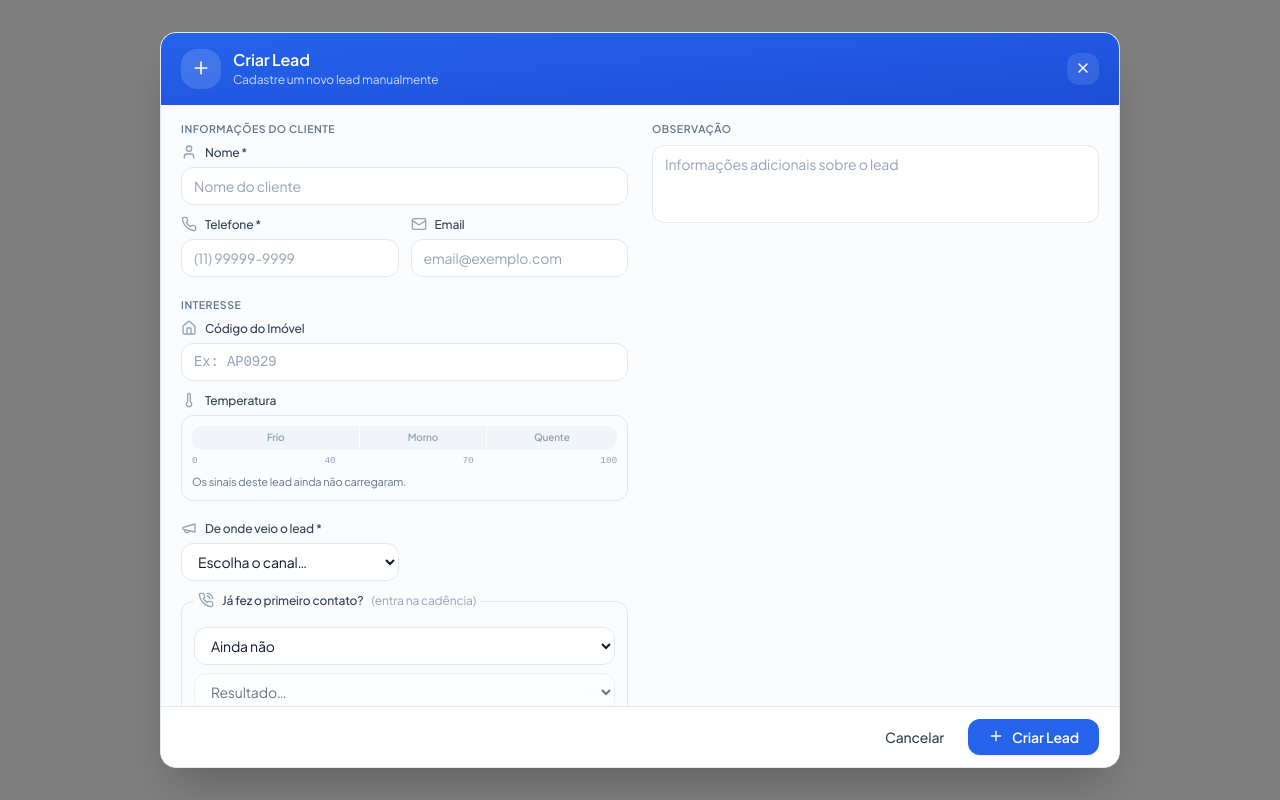
Test: Duplicidade de telefone ao criar lead › corretor vê o detalhe quando a ficha já é dele
This screenshot has width=1280, height=800.
Type "Maria" into the field with placeholder "Nome do cliente".
click(404, 186); type("Maria")  # box [181,167,628,205]
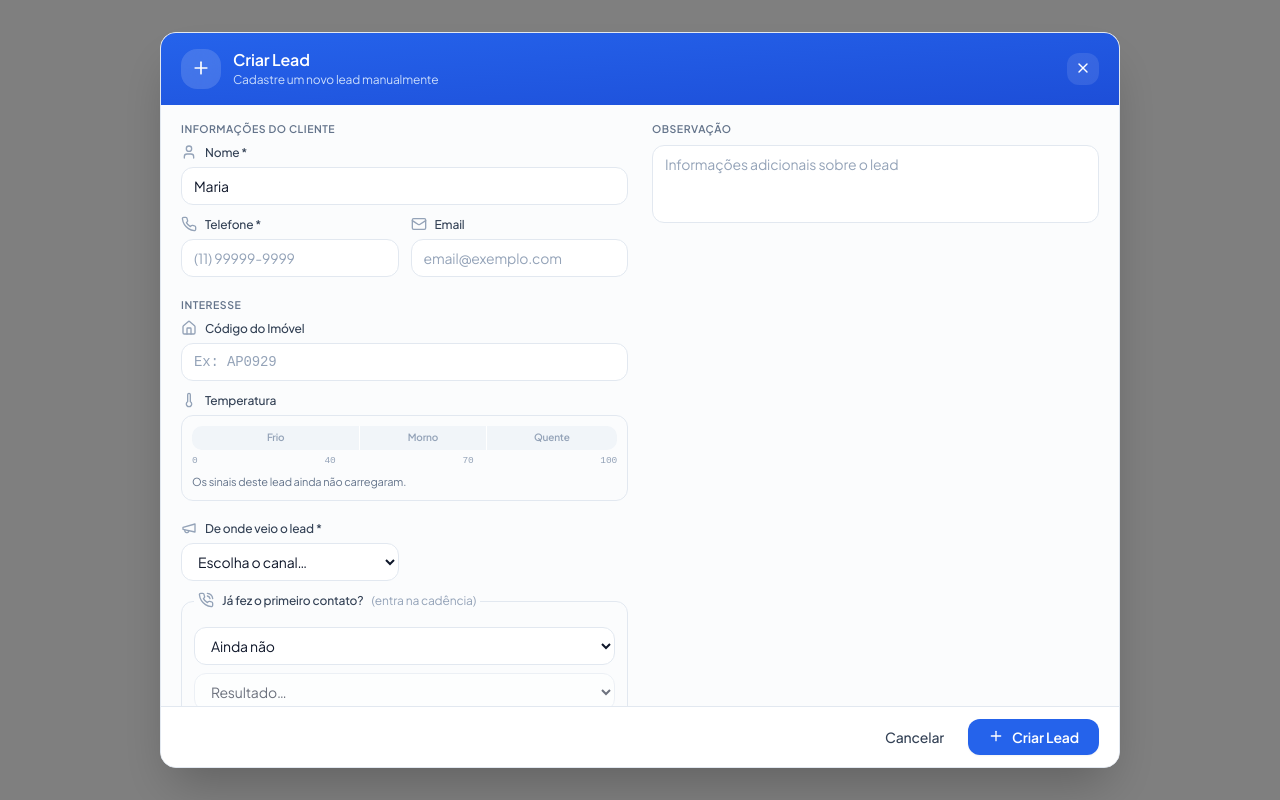
Type "19999999999" into the field with placeholder "(11) 99999-9999".
click(290, 258); type("19999999999")  # box [181,239,398,277]
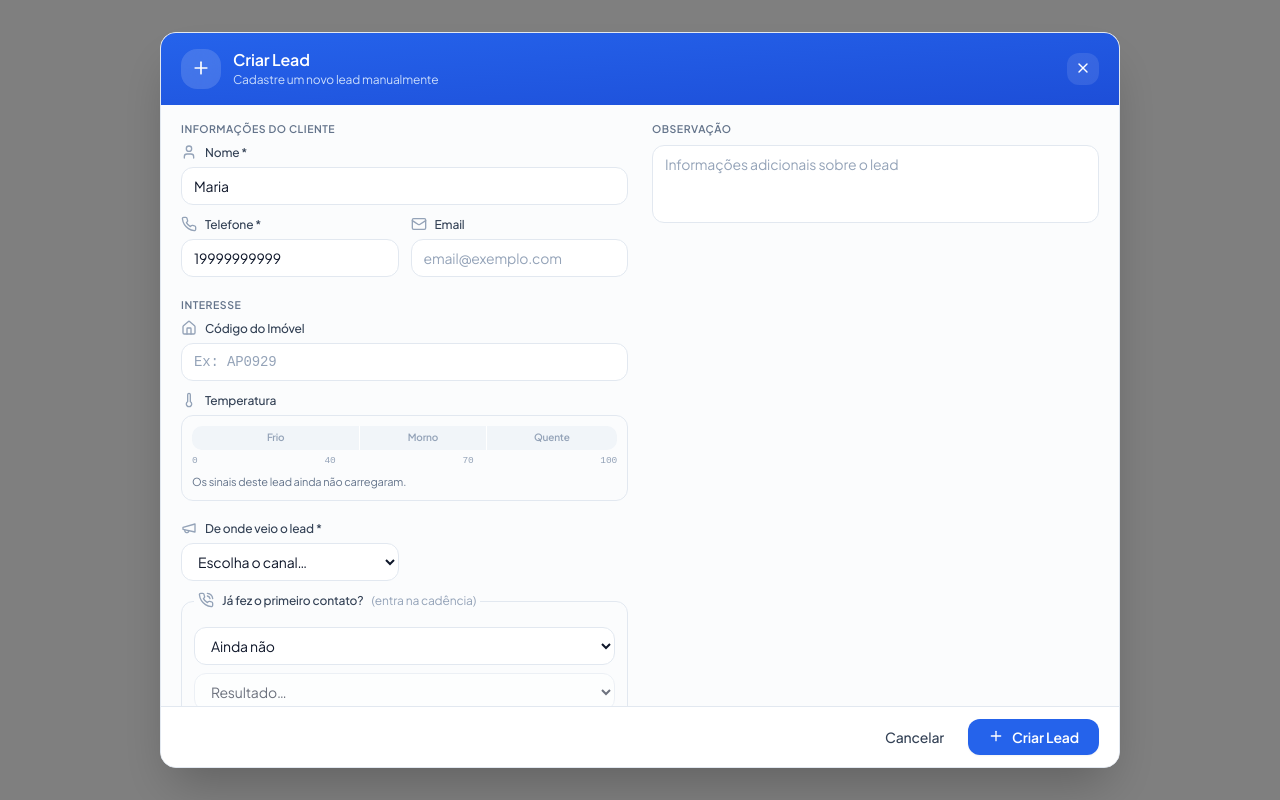
Select "Plantão" in the dropdown labelled "De onde veio o lead *" at (290, 562), box [181,543,398,581]
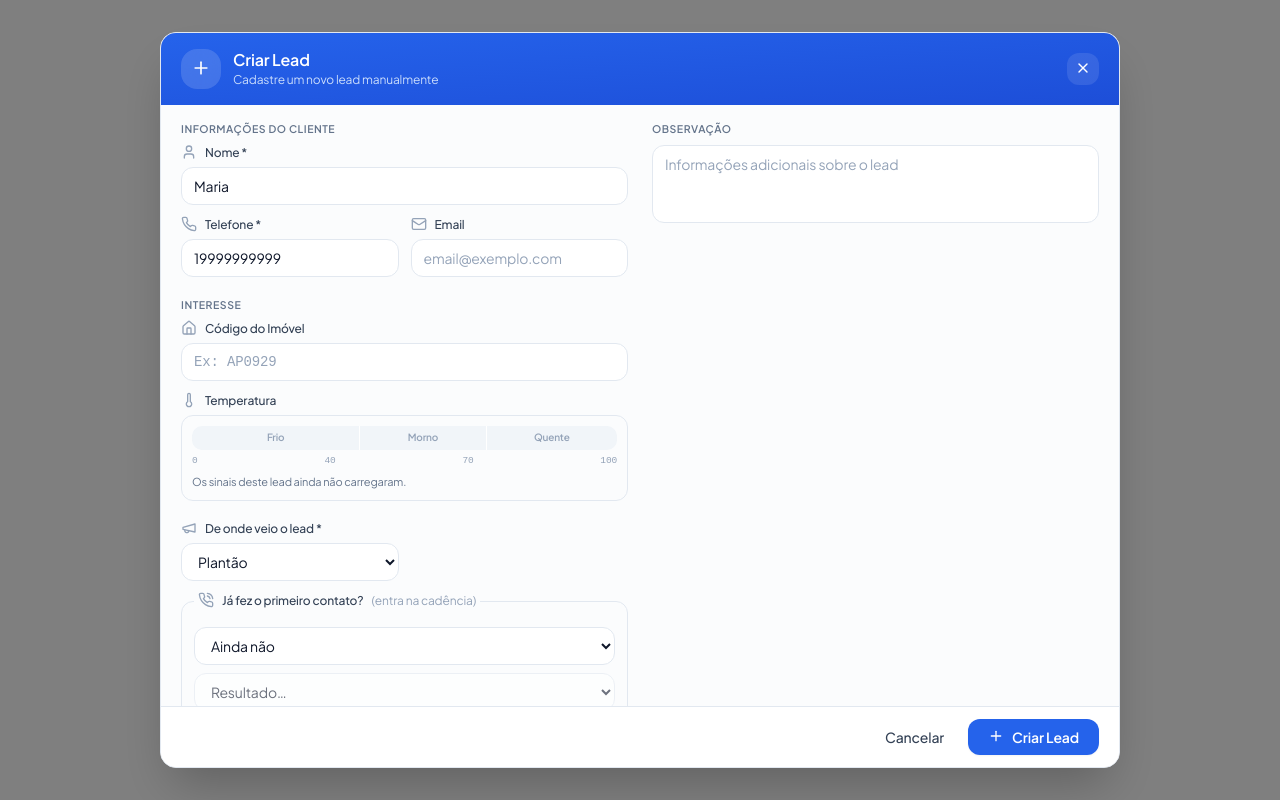
Click the button "Criar Lead".
click(1034, 737)  # box [968,719,1099,755]
(page scrolled)
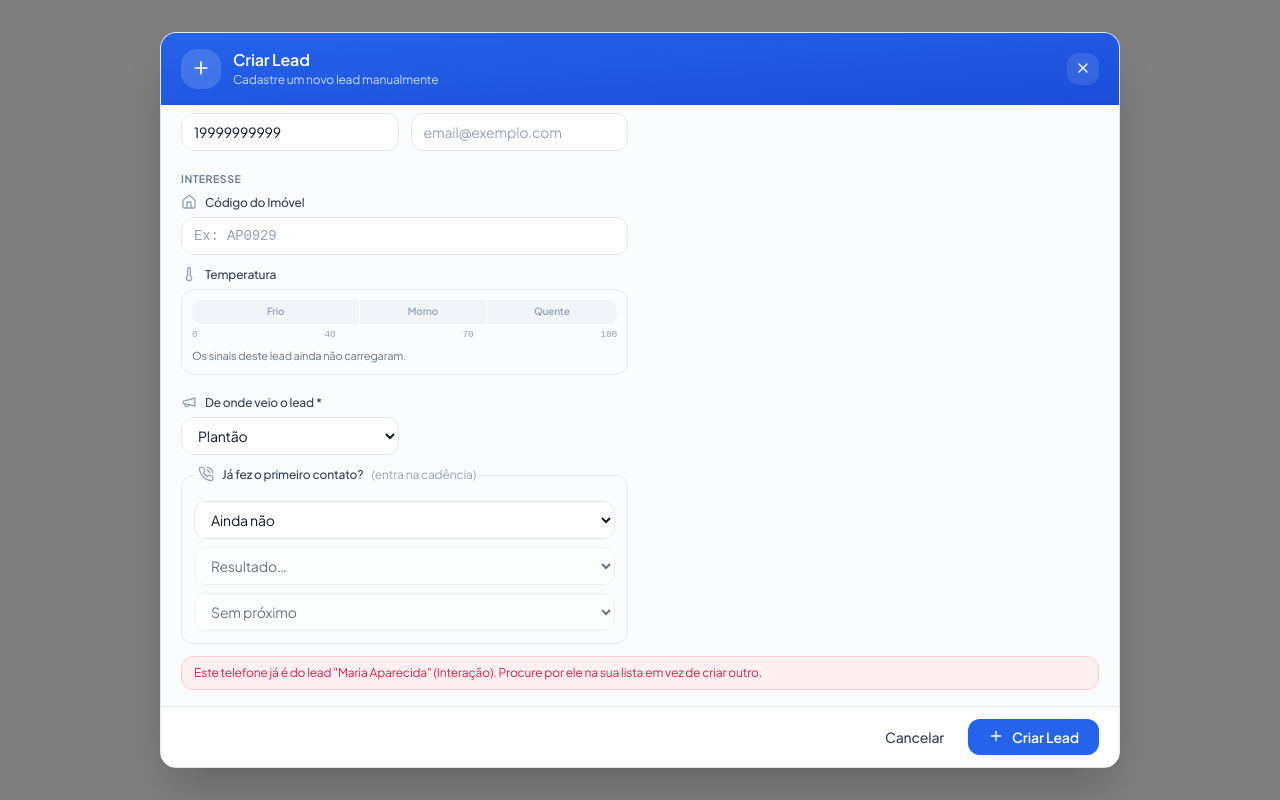
Result: the text "na sua lista" is shown at [194,665,762,680]
